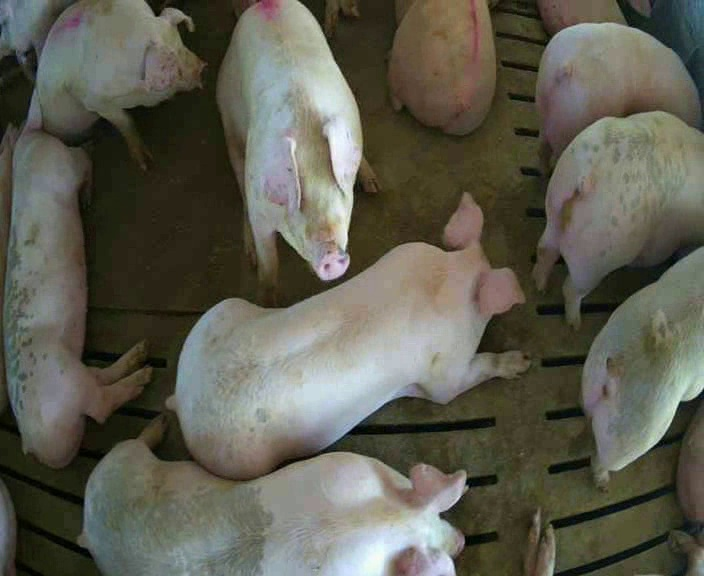pig: (168, 194, 529, 477), (81, 418, 464, 574), (4, 89, 151, 467), (217, 2, 382, 303), (533, 111, 703, 327), (582, 247, 703, 485), (35, 2, 207, 168), (536, 23, 700, 174), (388, 0, 495, 135)
